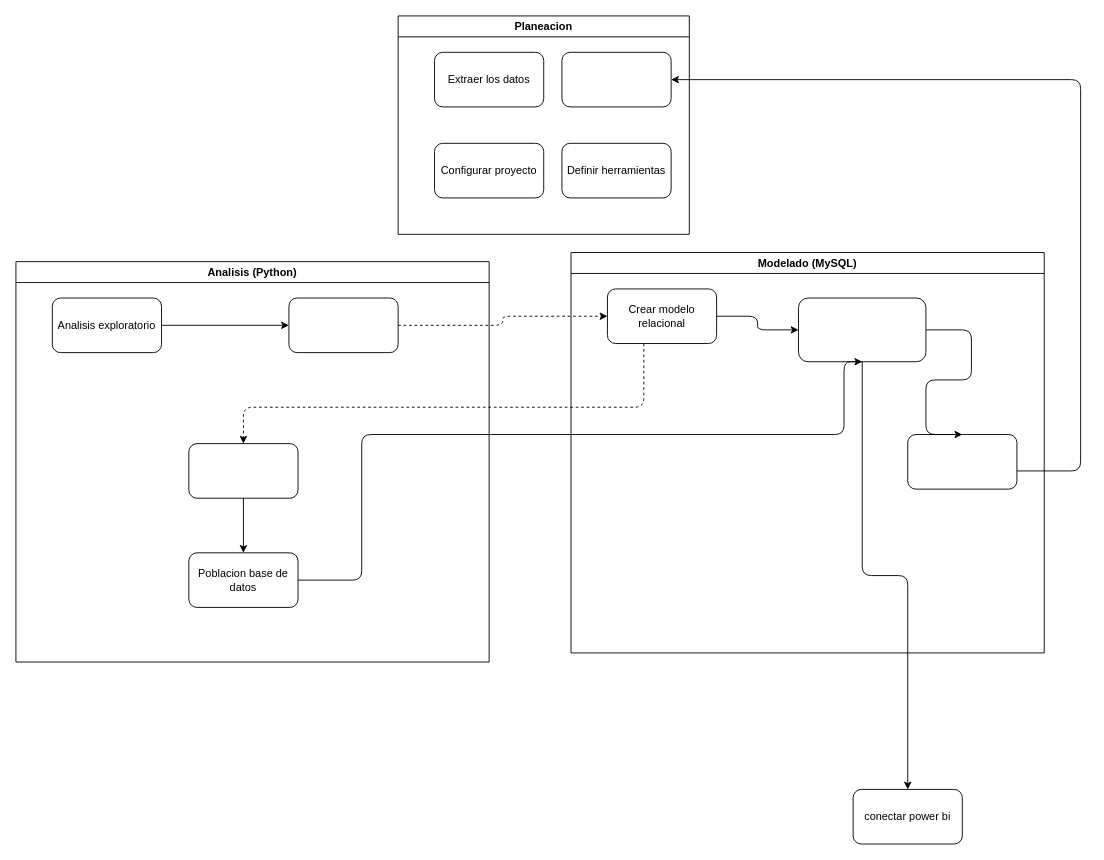
The diagram is 1104 pixels wide and 860 high, and some of its shapes have lost their labels. Here are the shapes that lost their labels. From the top down, the centre of each, then its label:
At (x=616, y=79): "Definir objetivo".
At (x=343, y=325): "Limpieza de datos".
At (x=862, y=329): "Crea la base de datos".
At (x=243, y=470): "Preparar tablas".
At (x=962, y=461): "Crean consultas (preguntas de negocio)".
